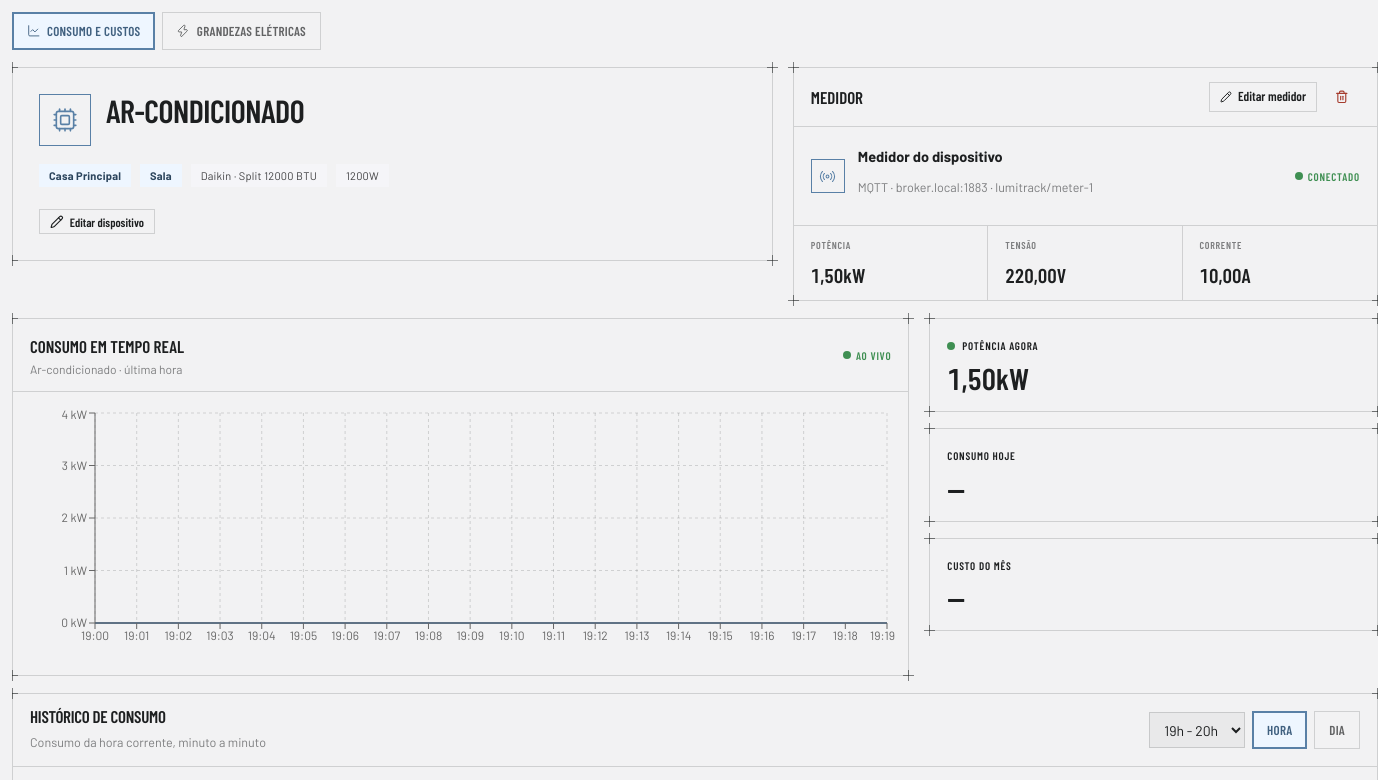
Test case: DeviceDetailsPage — aba Grandezas Elétricas › clicar em Grandezas Elétricas troca o conteúdo pela grade de cards, com leitura SSE
This screenshot has width=1378, height=780.
Check: the heading "Ar-condicionado" is shown, box [106,91,304,129]
Click the tab "Grandezas Elétricas".
click(241, 31)  # box [162,12,320,50]
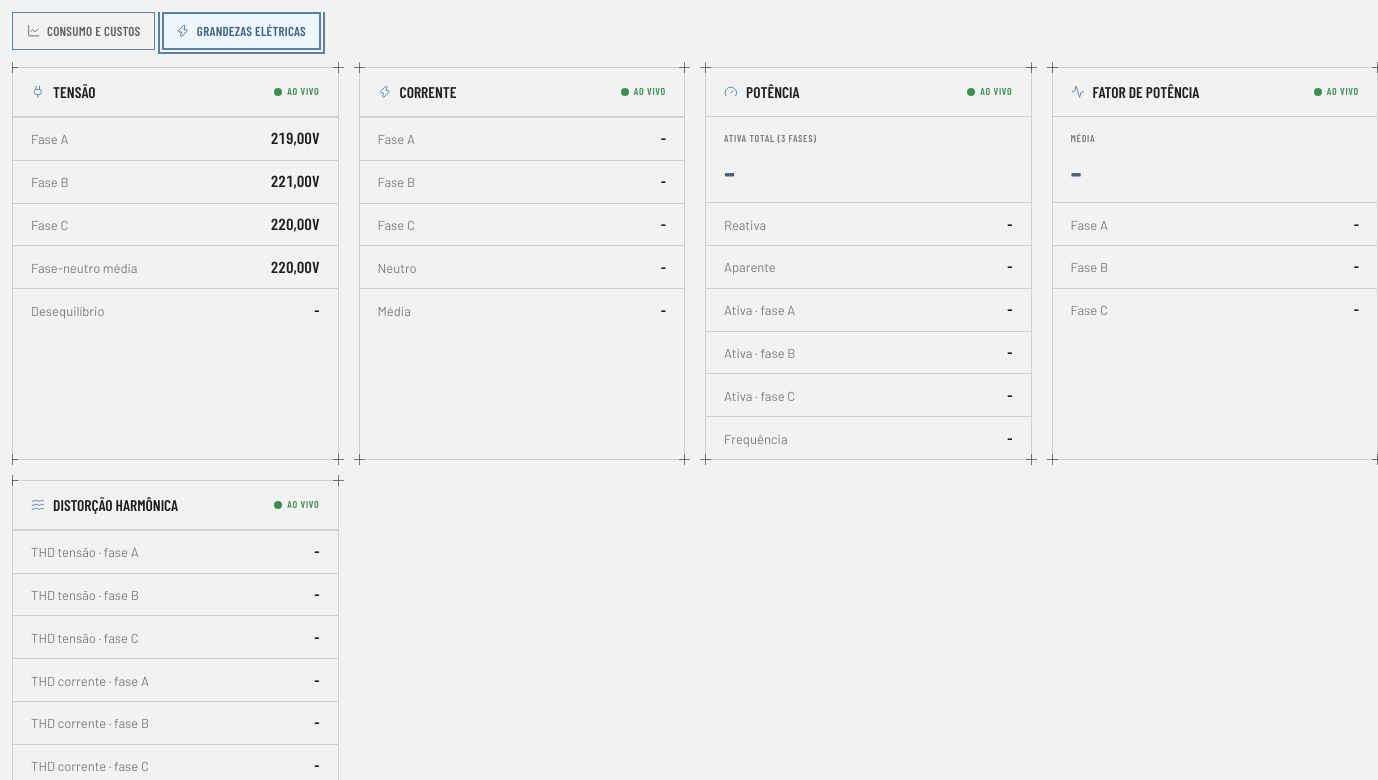
Check: the heading "Ar-condicionado" is not shown
Check: the element with test id "electrical-quantity-card-voltage" is shown, box [12,67,338,460]
